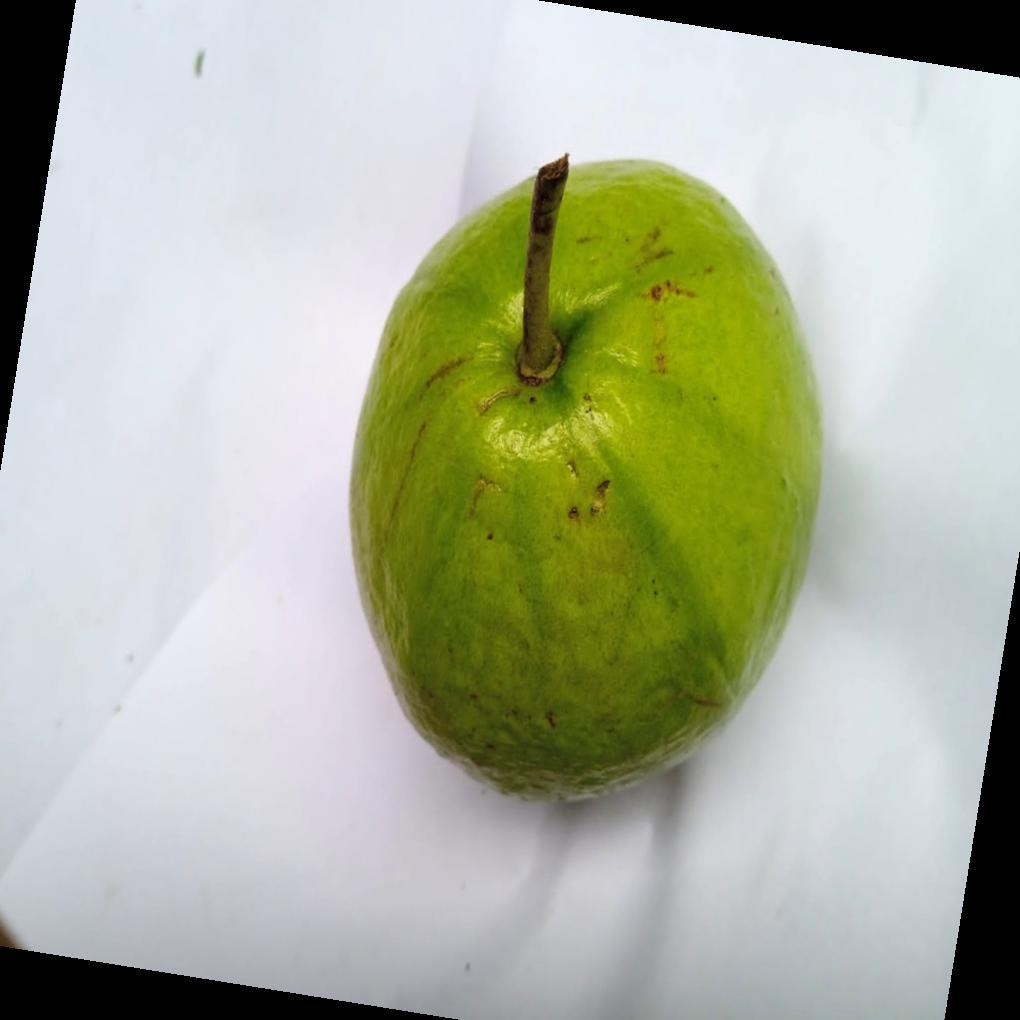FreshGuava: (346, 158, 824, 806)
